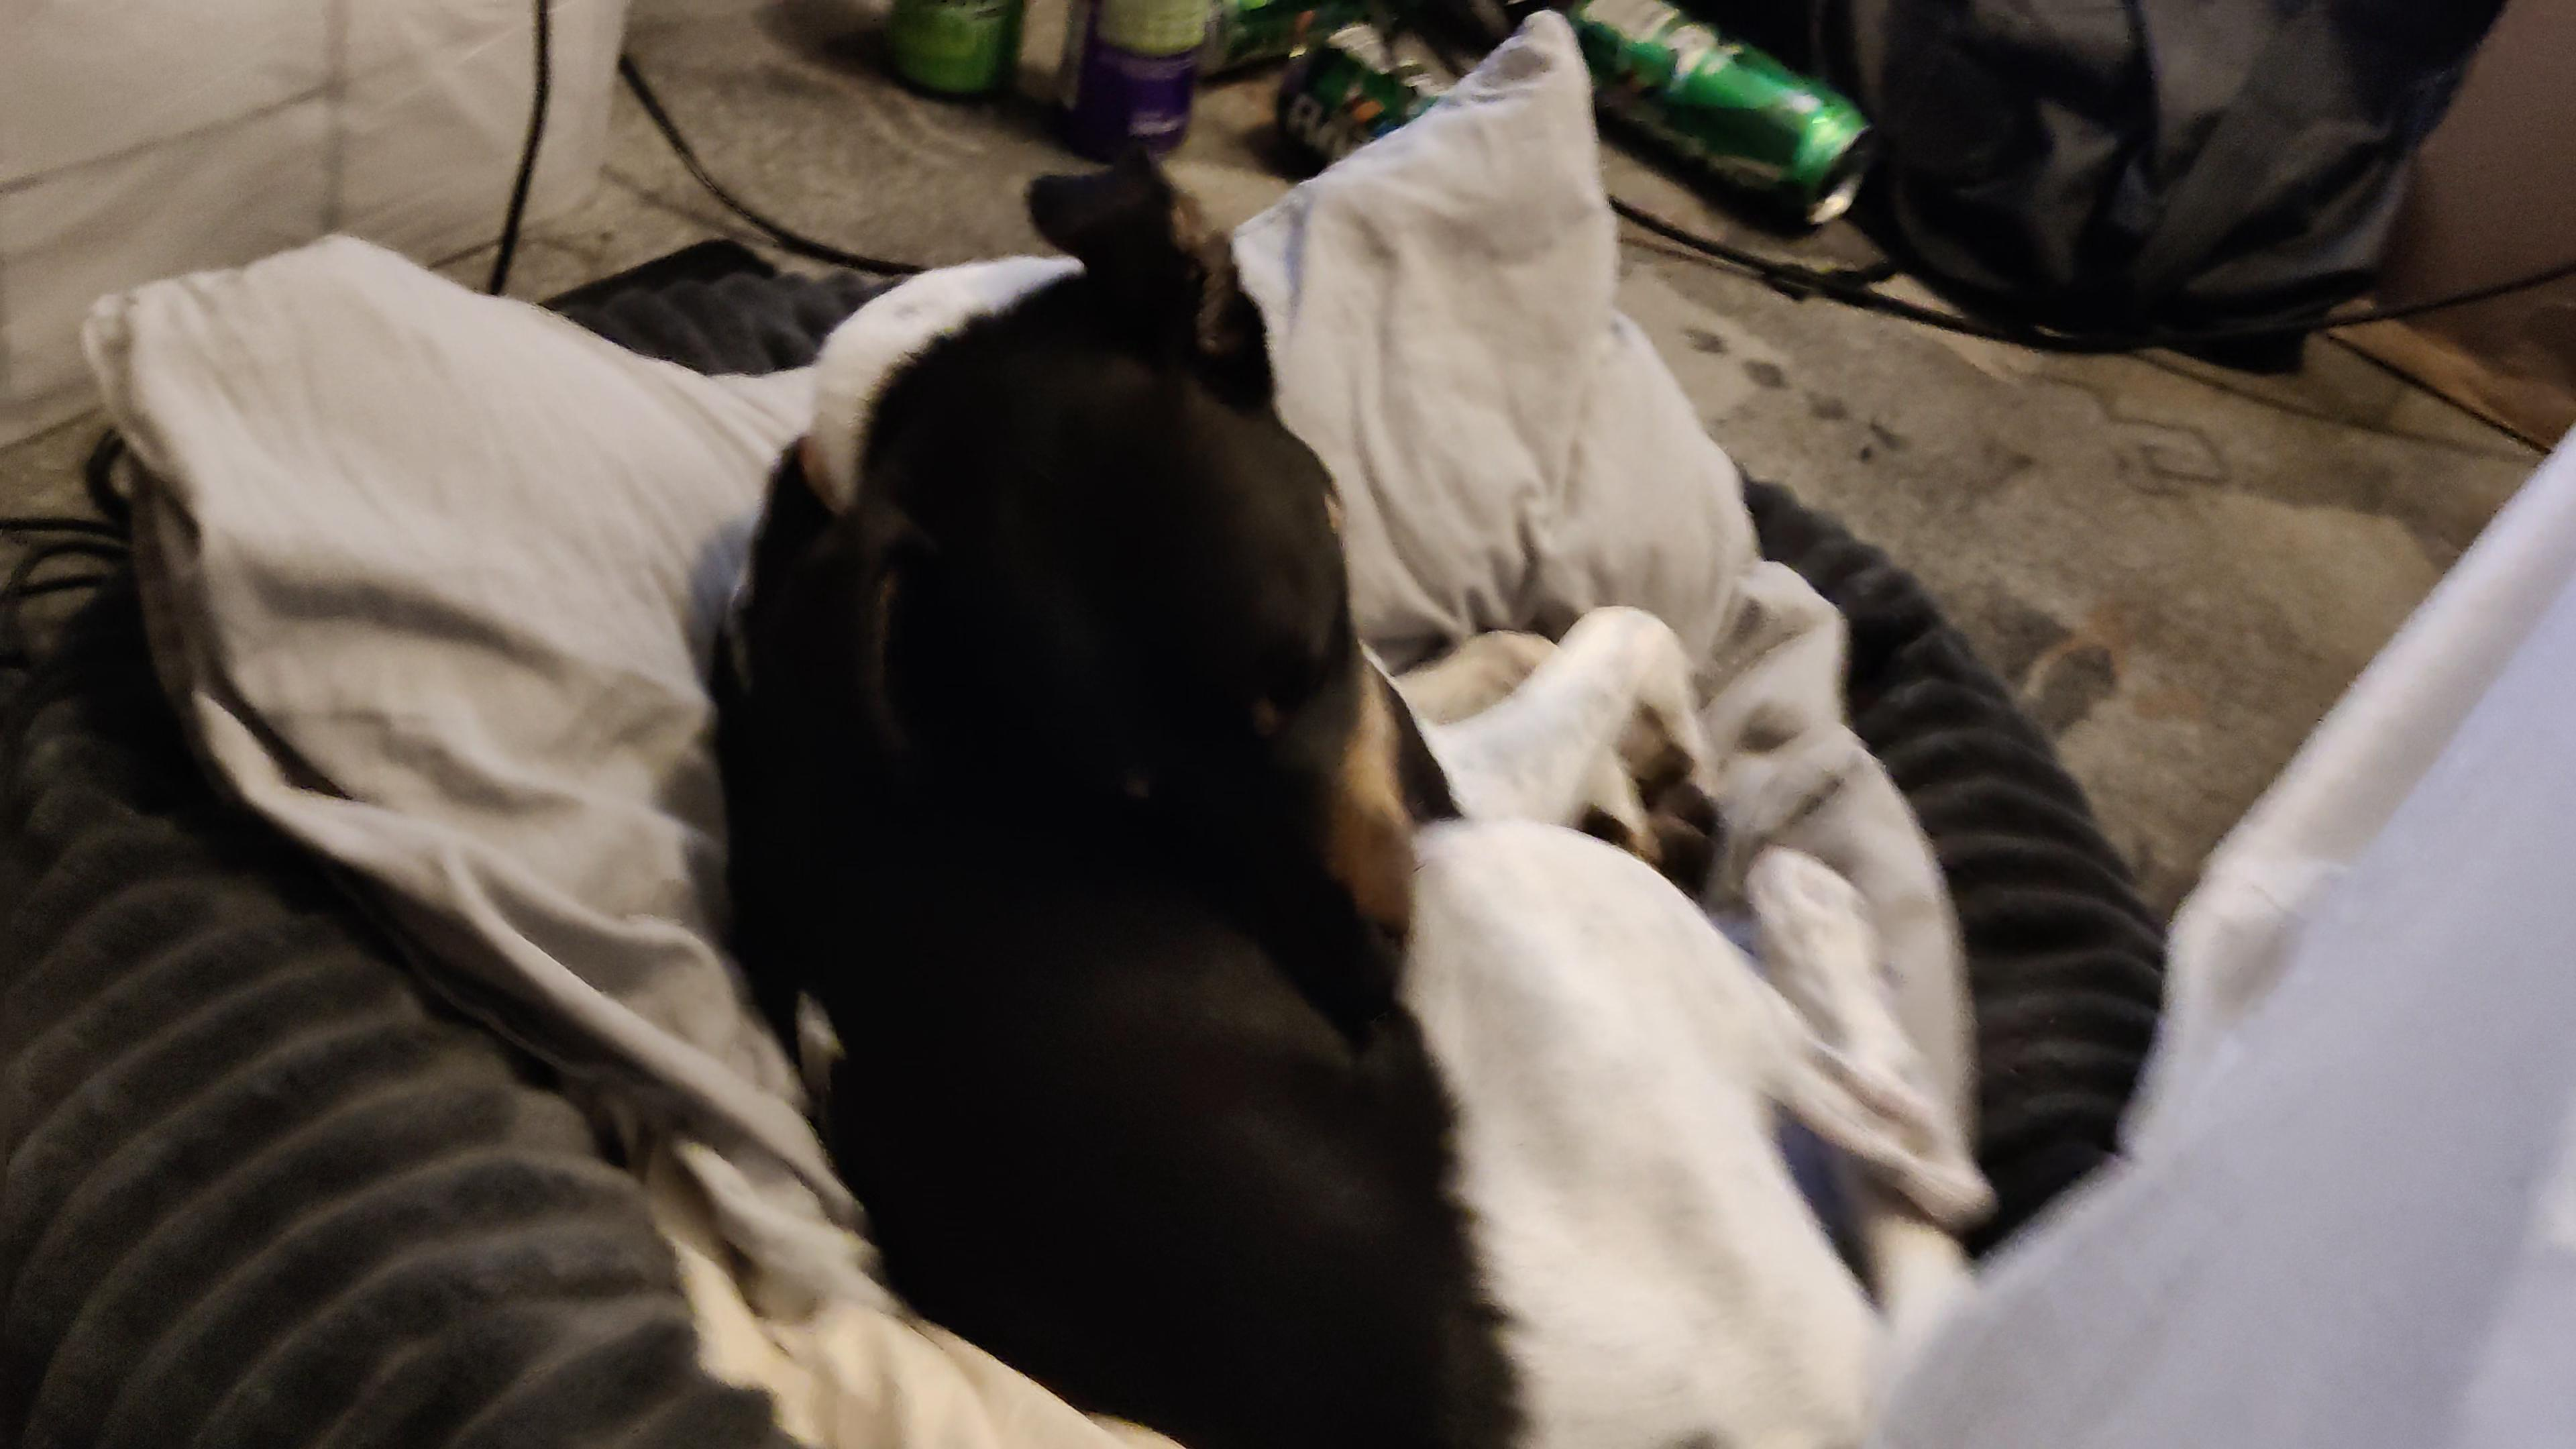Dog: (701, 136, 2001, 1449)
